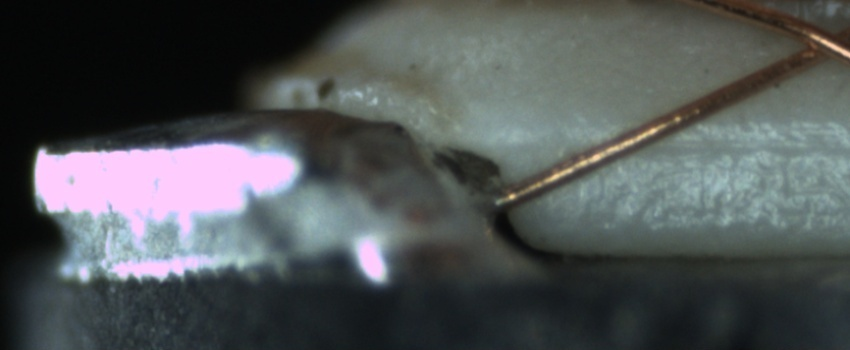CL: (778, 15, 846, 72)
DL: (567, 112, 846, 175)
